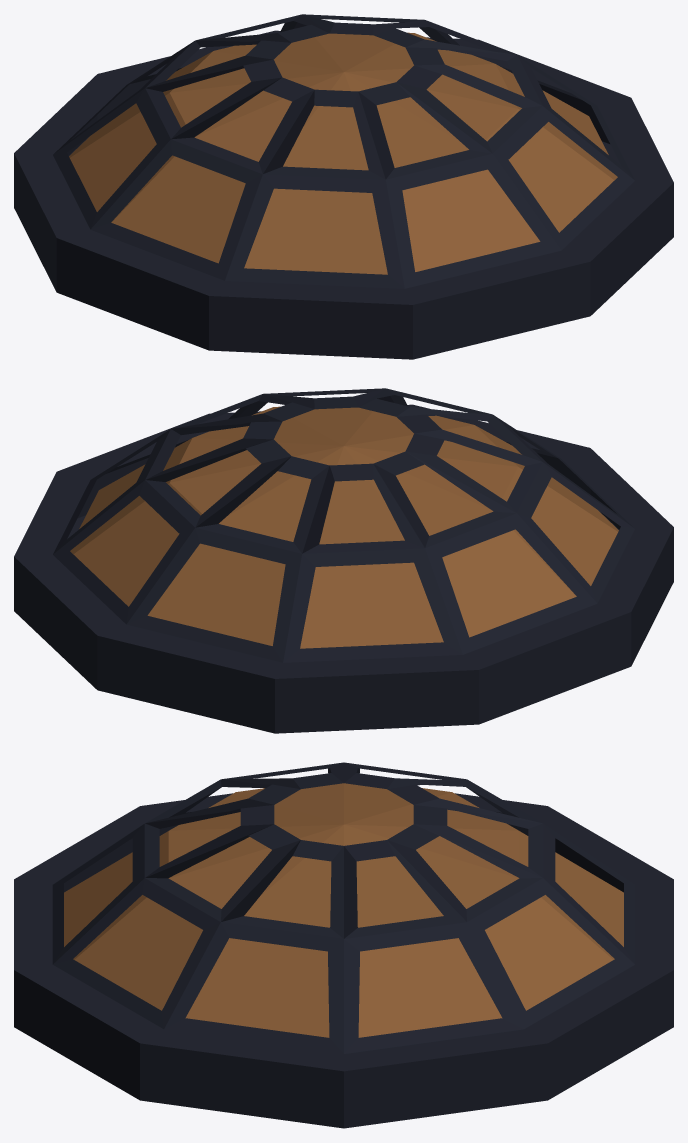
Rendered from light.glb.
3 views of the same model, one above another, from view 1: azimuth 30°, elevation 25°; view 2: azimuth 150°, elevation 25°; view 3: azimuth 270°, elevation 25° (orthographic). The views are drawn at different scales.
Visible parts, largest first — view 1: cover-col, bulb; view 2: cover-col, bulb; view 3: cover-col, bulb.
Part boxes in pixels (x1=…): cover-col: x1=14, y1=14, x2=673, y2=359; bulb: x1=69, y1=32, x2=617, y2=274; cover-col: x1=14, y1=388, x2=673, y2=733; bulb: x1=70, y1=406, x2=618, y2=648; cover-col: x1=14, y1=762, x2=673, y2=1128; bulb: x1=64, y1=783, x2=623, y2=1037.
Bounding box in the file's own units: 0.425 × 0.1131 × 0.4042.
1 material, 1 textured.
